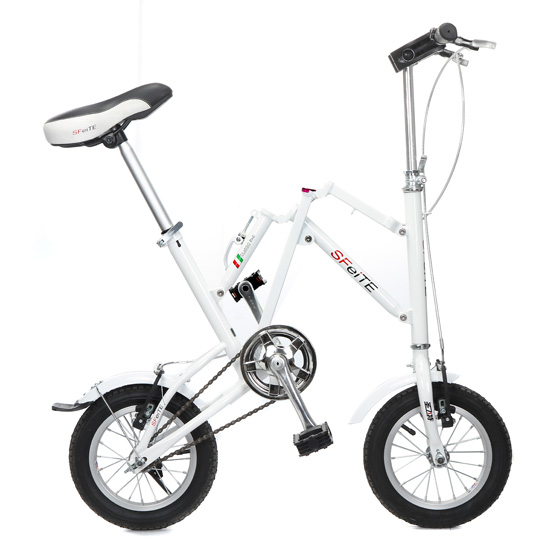MNV: (42, 24, 513, 531)
